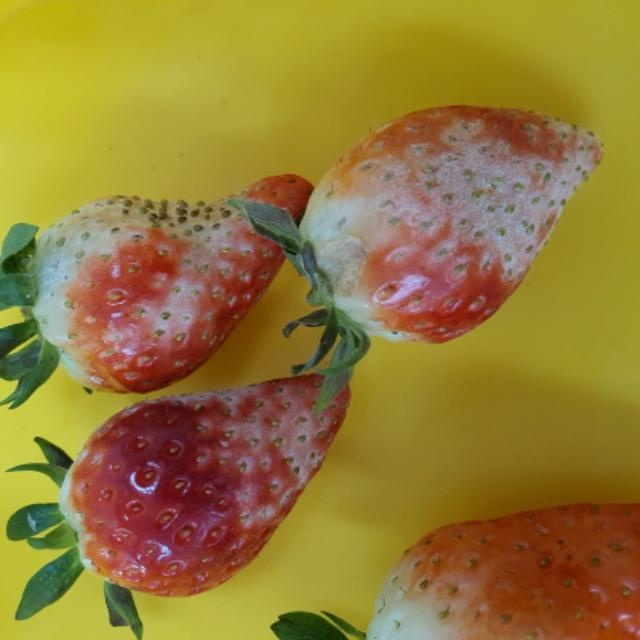Powdery Mildew Fruit: (297, 104, 605, 343), (57, 374, 354, 600), (24, 172, 315, 394)
